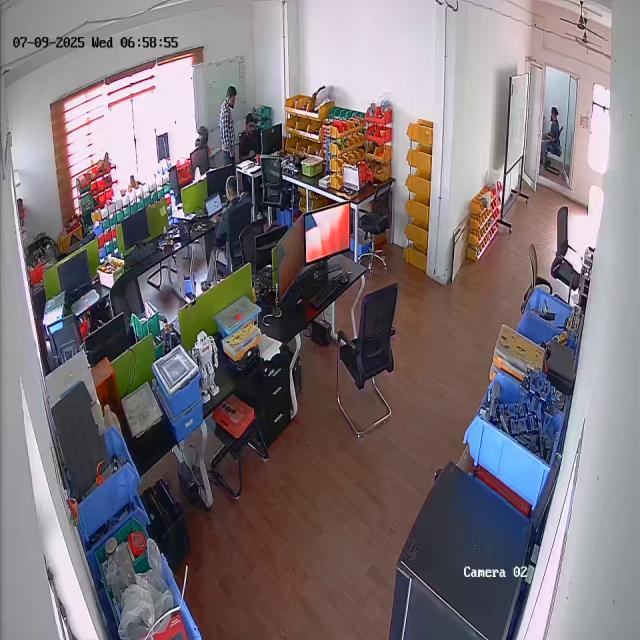person: (216, 174, 253, 264), (216, 86, 239, 170), (240, 113, 264, 159), (543, 106, 564, 155)
